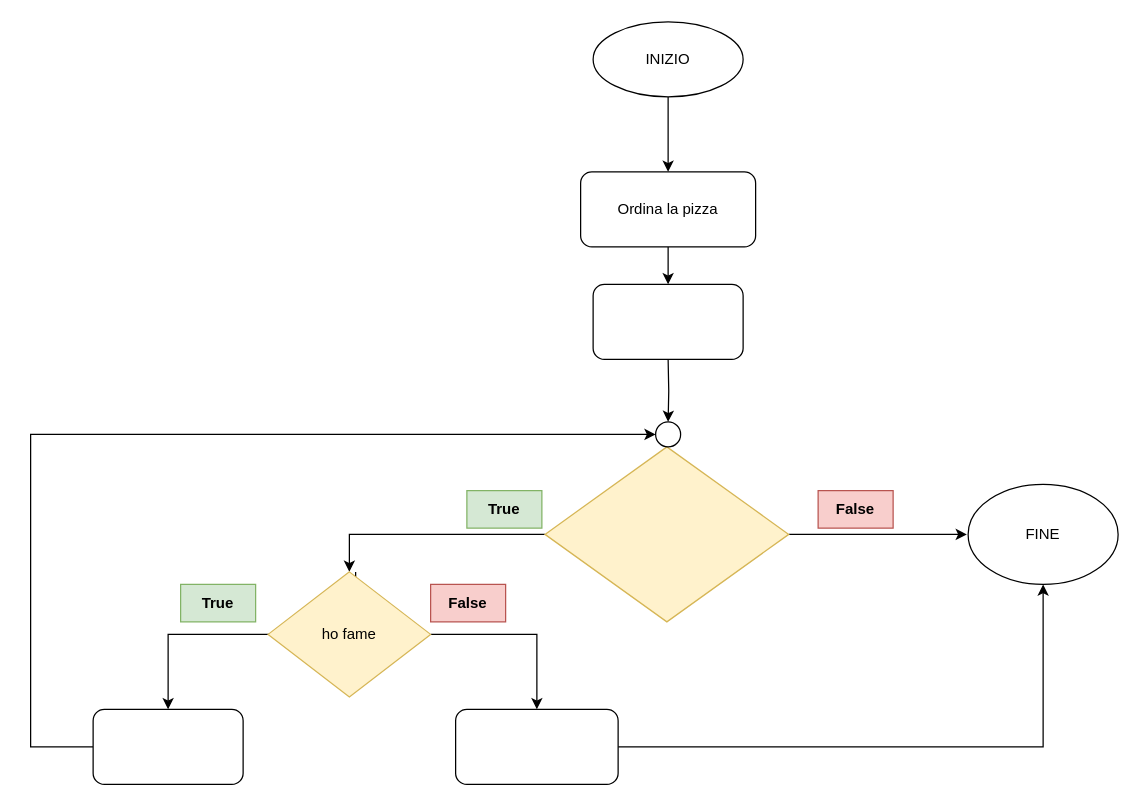
The diagram is 1140 pixels wide and 806 high, and some of its shapes have lost their labels. The centre of each missing label's shape, as x and y in pixels:
Arriva la pizza: [667,321]
c'è della pizza: [666,534]
conservo gli avanzi in frigo se ci sono: [536,746]
mangio una fetta: [167,746]
